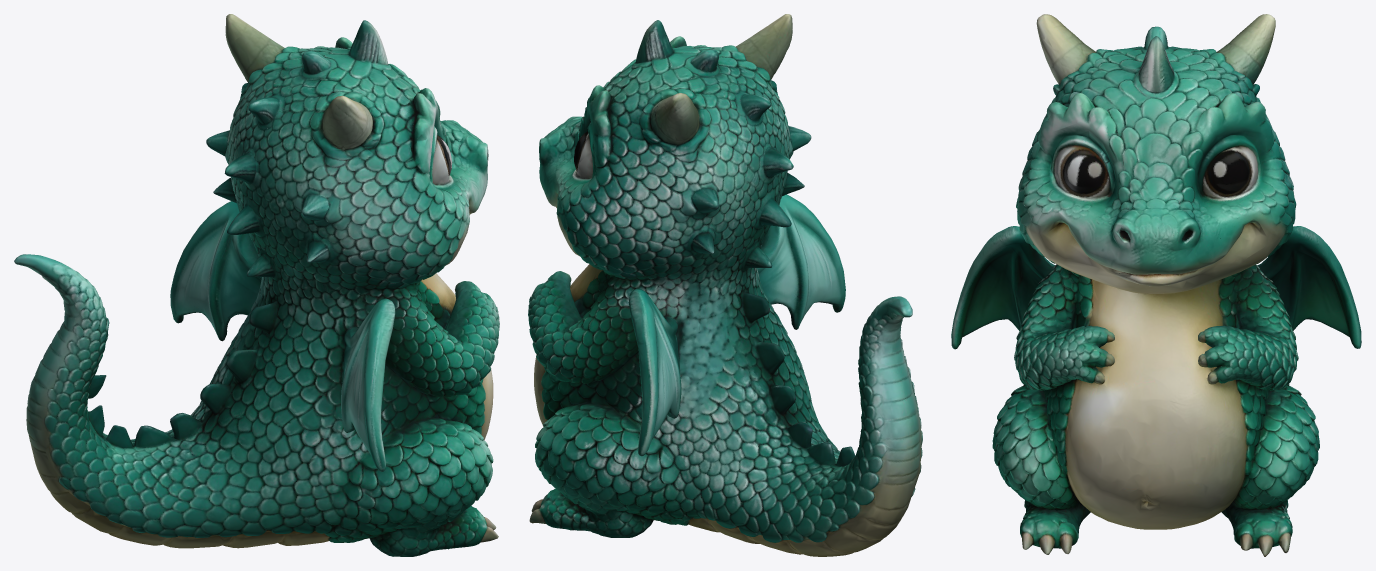
The model's file is dragon.glb.
3 views of the same model, side by side, from view 1: azimuth 30°, elevation 25°; view 2: azimuth 150°, elevation 25°; view 3: azimuth 270°, elevation 25° (orthographic). The views are drawn at different scales.
Parts seen in each view (by area): view 1: model; view 2: model; view 3: model.
Boxes of the visible parts, <box> form: model: <box>14,14,499,556</box>; model: <box>528,14,922,556</box>; model: <box>951,14,1361,556</box>.
Bounding box in the file's own units: 0.8812 × 0.9771 × 0.7487.
Materials: 1 (1 with a texture image).
